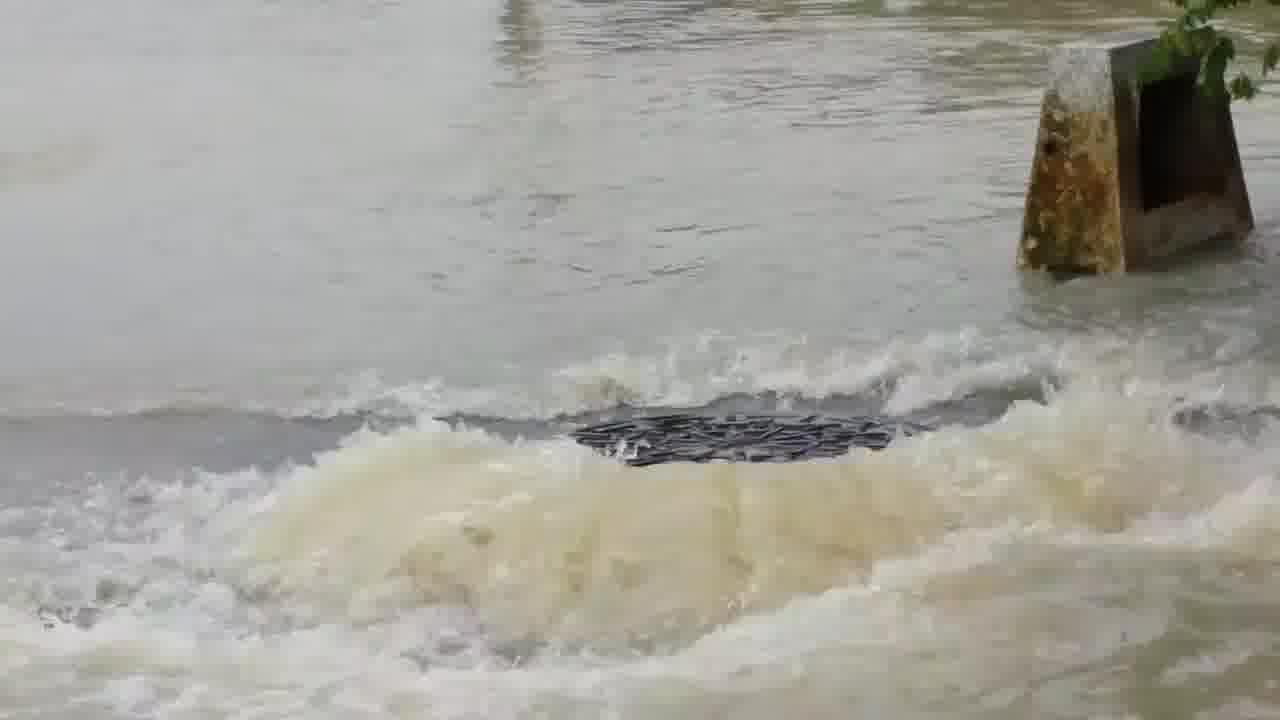drainage_overflow: (143, 292, 1258, 662)
